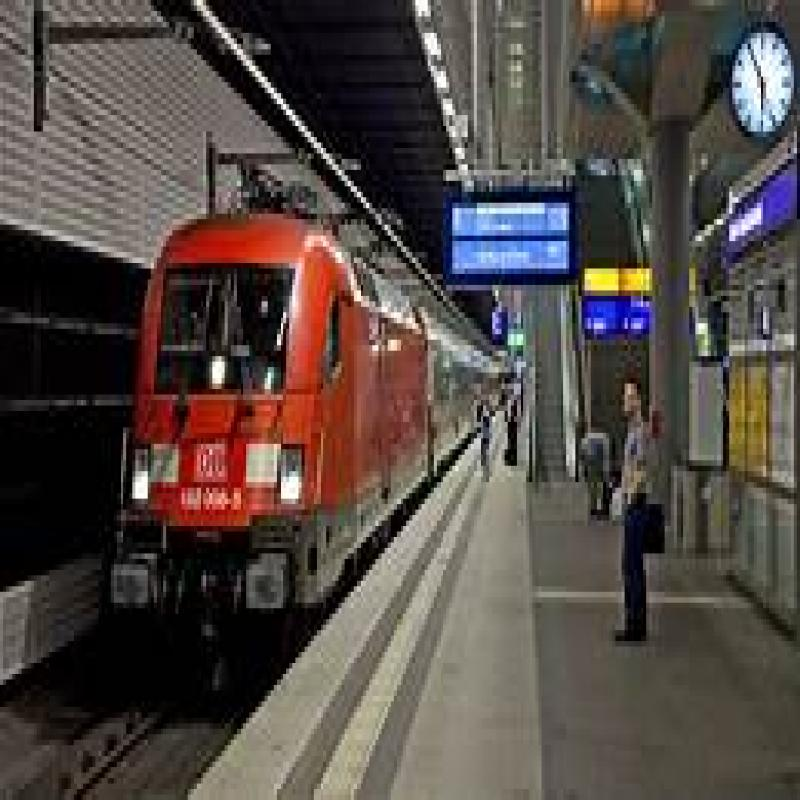train: (63, 105, 450, 615)
